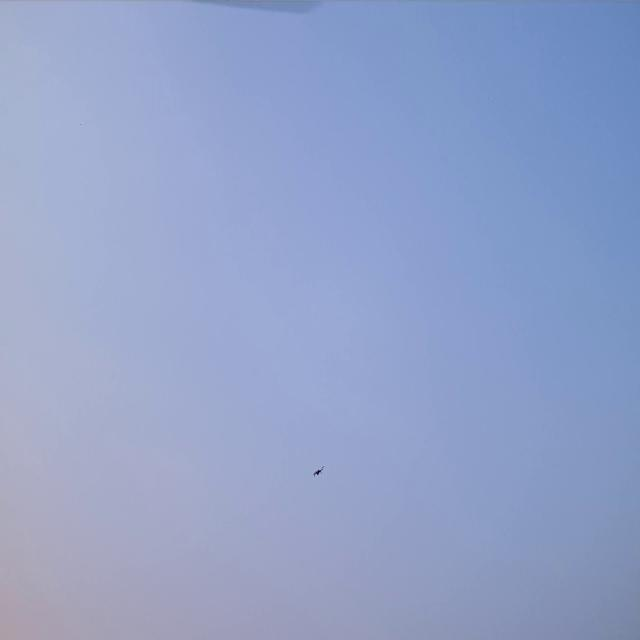UAV: (312, 464, 324, 480)
